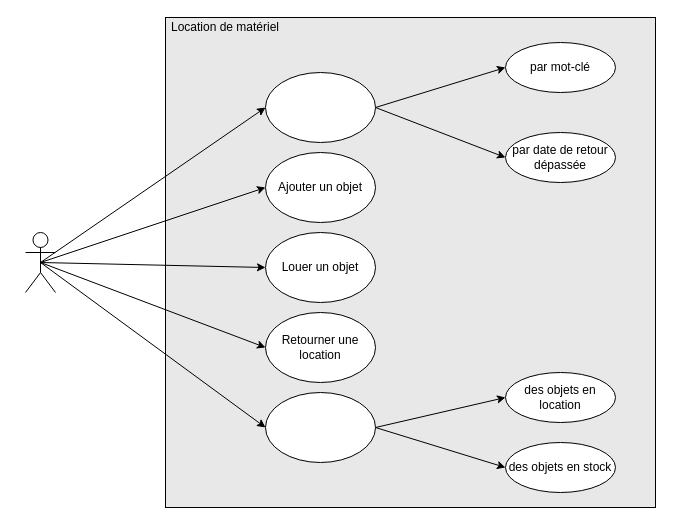
This 673x525 diagram has some shape labels left out. Each missing label, with the centre of its shape:
"Employé" goes at [40,262].
"imprimer un PDF" goes at [320,427].
"Trier les objets" goes at [320,107].
